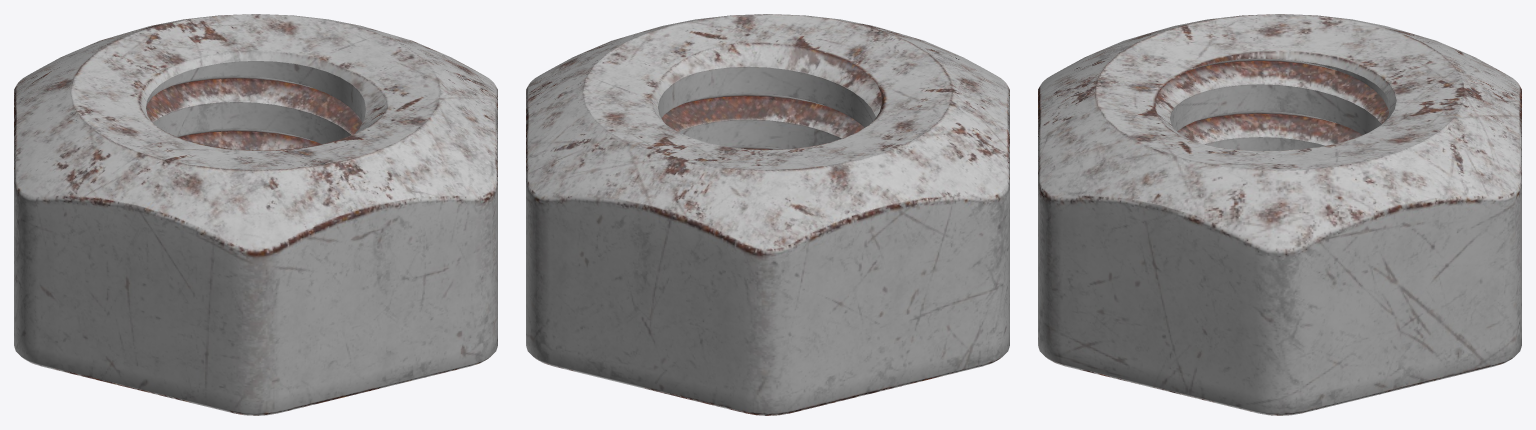
The picture shows the model from 3 angles, left to right: view 1: azimuth 30°, elevation 25°; view 2: azimuth 150°, elevation 25°; view 3: azimuth 270°, elevation 25°; orthographic projection.
Visible parts, largest first — view 1: HexNut; view 2: HexNut; view 3: HexNut.
Part boxes in pixels (x1=…): HexNut: x1=14, y1=14, x2=497, y2=415; HexNut: x1=526, y1=14, x2=1009, y2=415; HexNut: x1=1038, y1=14, x2=1521, y2=415.
Size of the model in its own units: 0.5839 by 0.2525 by 0.5196.
1 material, 1 textured.
